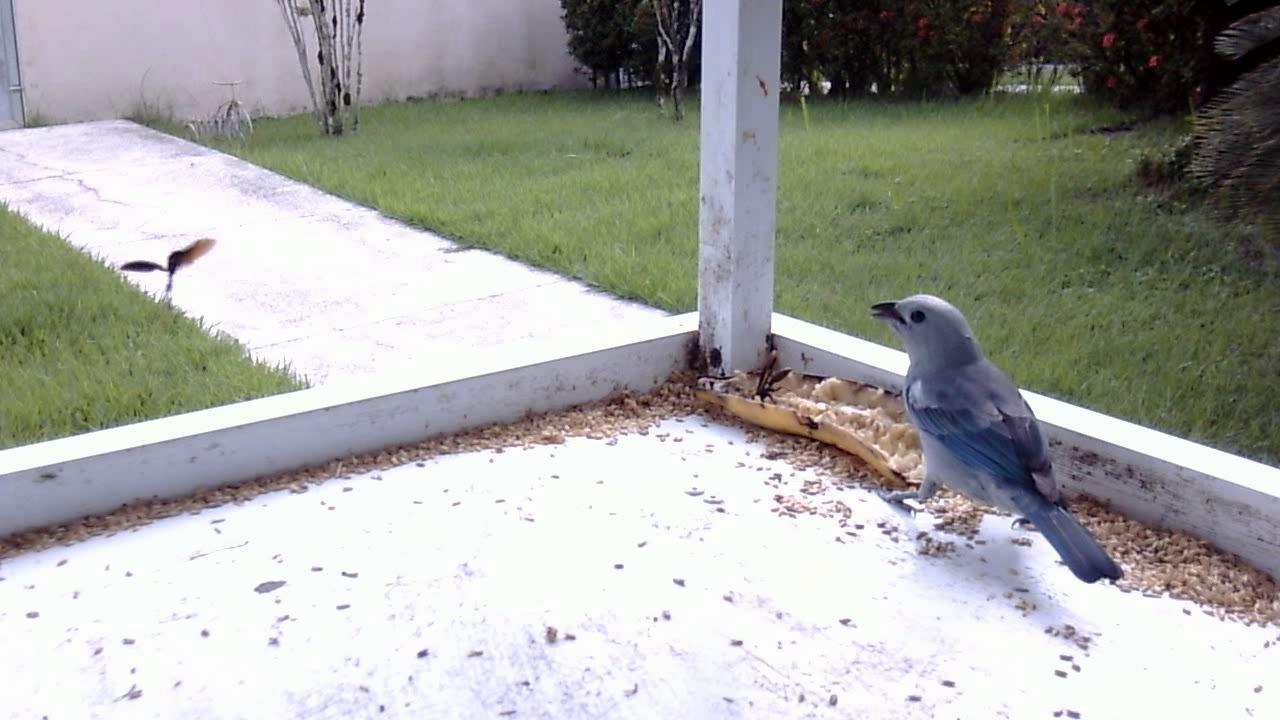sanhaco_da_amazonia: (857, 291, 1133, 587)
